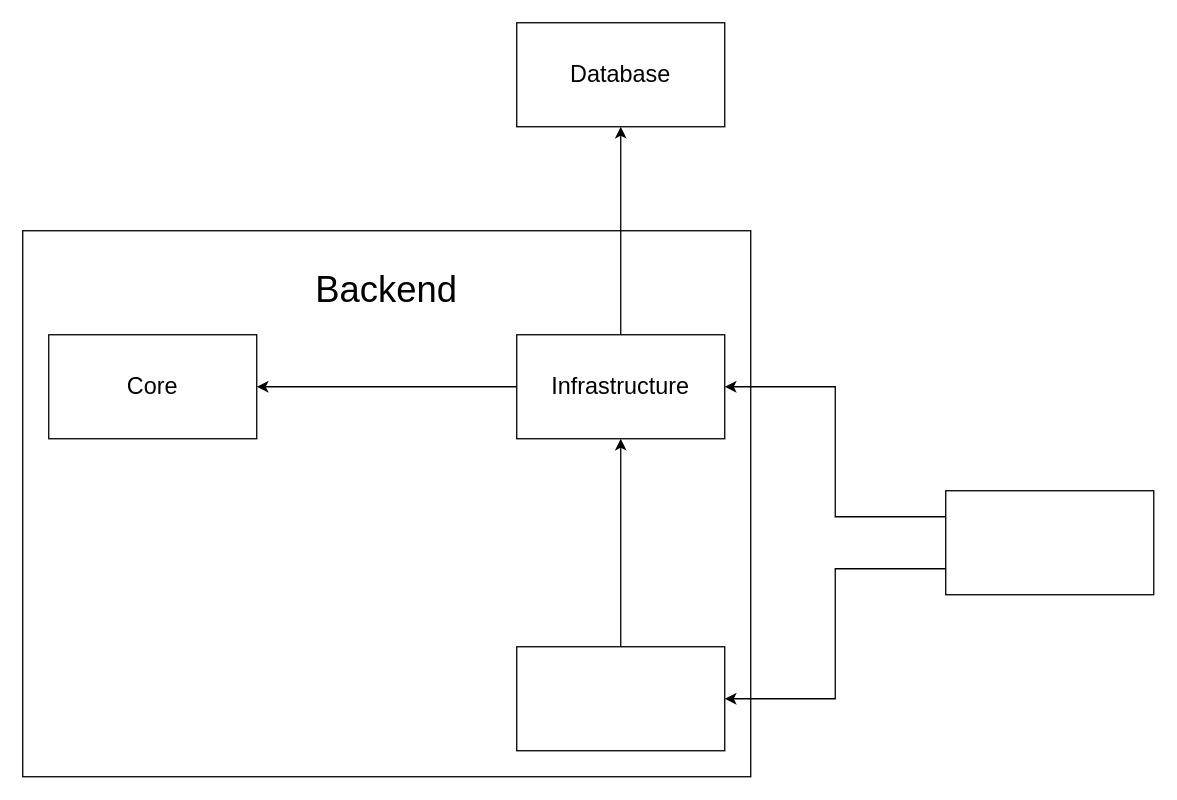
Some shapes in this 1177 by 800 pixel diagram are drawn without their labels. Here are the shapes that lost their labels. From the top down, the box of each, then its label:
(944, 489, 1154, 595): Tests
(515, 645, 725, 751): API
